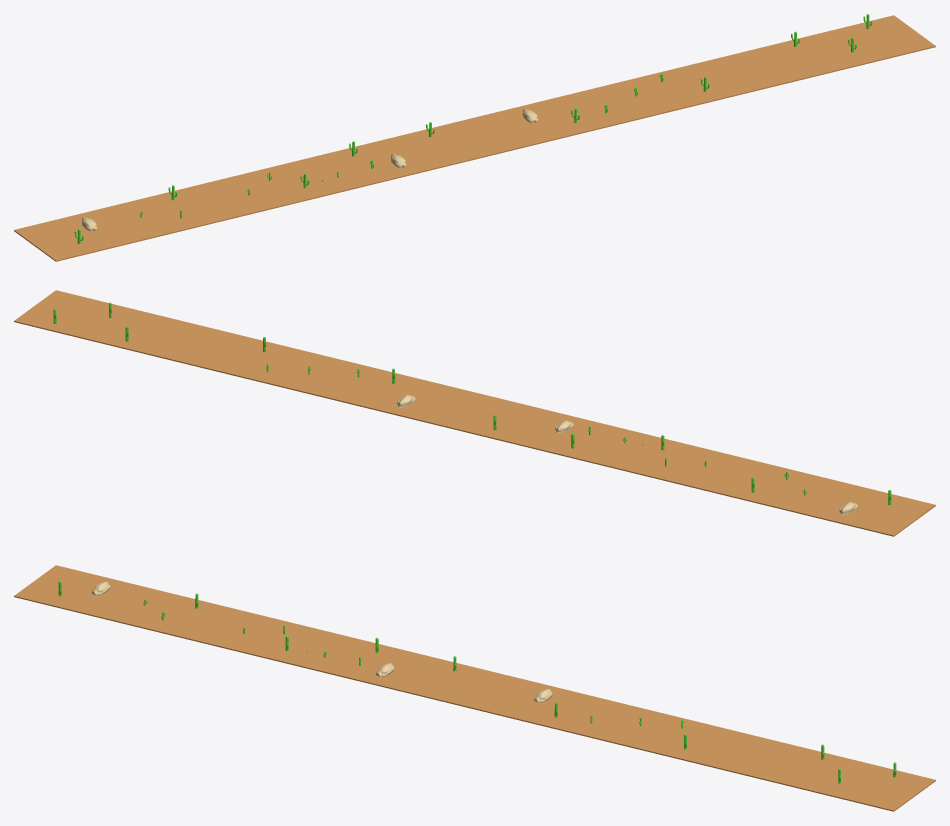
Rendered from desert_opt.fbx.
3 renders of one model, top to bottom at view 1: azimuth 30°, elevation 25°; view 2: azimuth 150°, elevation 25°; view 3: azimuth 330°, elevation 25°, orthographic.
Parts seen in each view (by area): view 1: Cube.050; view 2: Cube.050; view 3: Cube.050.
Part boxes in pixels (x1,y1,x2,y2): Cube.050: (14,15,935,261); Cube.050: (14,290,935,536); Cube.050: (14,565,935,811).
Size of the model in its own units: 259191 by 5288 by 21448.
